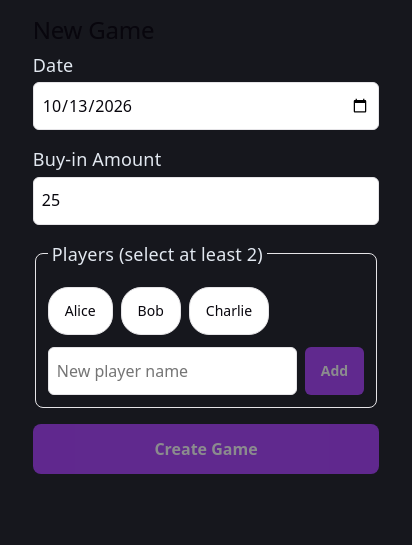
Test case: GameCreateForm › shows error when session creation fails
Click the button "Alice" at (80, 311), box [48,287,113,335]
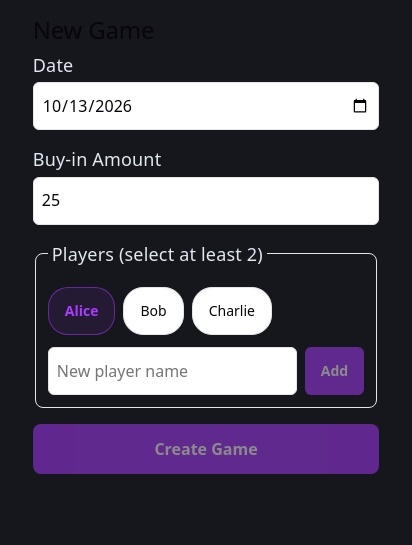
Click the button "Bob" at (154, 311), box [124,287,184,335]
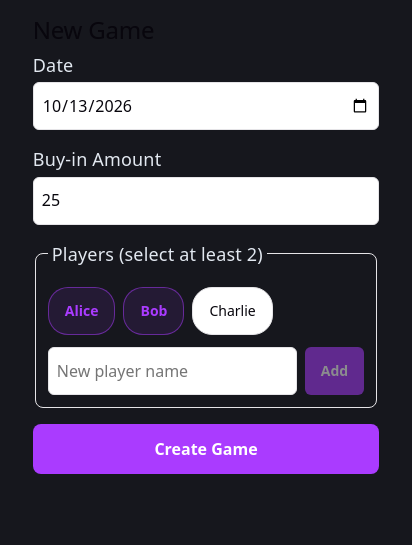
Submit the form
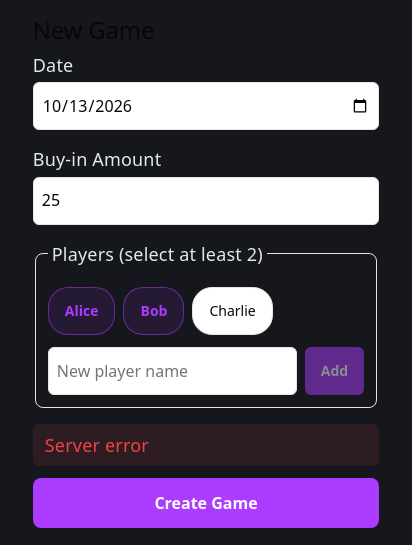
Result: the text "Server error" is shown at [33,424,379,466]
